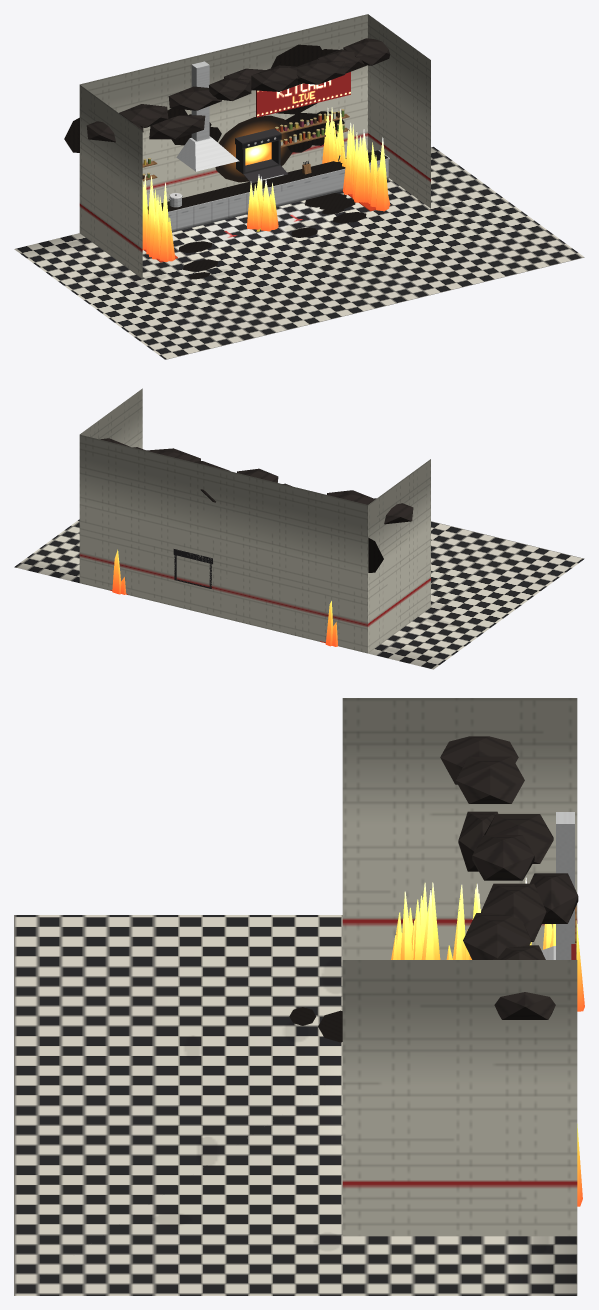
The model's file is kitchen.glb.
3 views of the same model, one above another, from view 1: azimuth 30°, elevation 25°; view 2: azimuth 150°, elevation 25°; view 3: azimuth 270°, elevation 25° (orthographic). The views are drawn at different scales.
Visible parts, largest first — view 1: set, seg_grease, seg_oven, seg_prep, fx_flare; view 2: set, seg_grease, seg_oven; view 3: set, seg_grease, seg_oven.
Boxes of the visible parts, x1=… form: set: x1=14, y1=14, x2=584, y2=359; seg_grease: x1=86, y1=38, x2=390, y2=262; seg_oven: x1=64, y1=44, x2=387, y2=279; seg_prep: x1=142, y1=72, x2=350, y2=181; fx_flare: x1=247, y1=174, x2=278, y2=231; set: x1=14, y1=388, x2=584, y2=669; seg_grease: x1=100, y1=438, x2=413, y2=646; seg_oven: x1=173, y1=537, x2=383, y2=588; set: x1=14, y1=698, x2=577, y2=1295; seg_grease: x1=391, y1=736, x2=584, y2=1206; seg_oven: x1=289, y1=1007, x2=342, y2=1042.
Bounding box in the file's own units: 19.2 × 6.53 × 12.16.
Materials: 2 (2 with a texture image).
